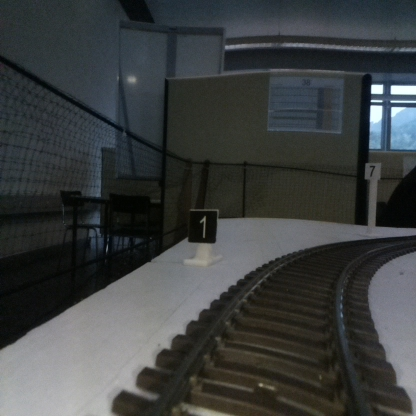black-info-7: (365, 163, 380, 234)
black-stop-1: (188, 210, 216, 263)
